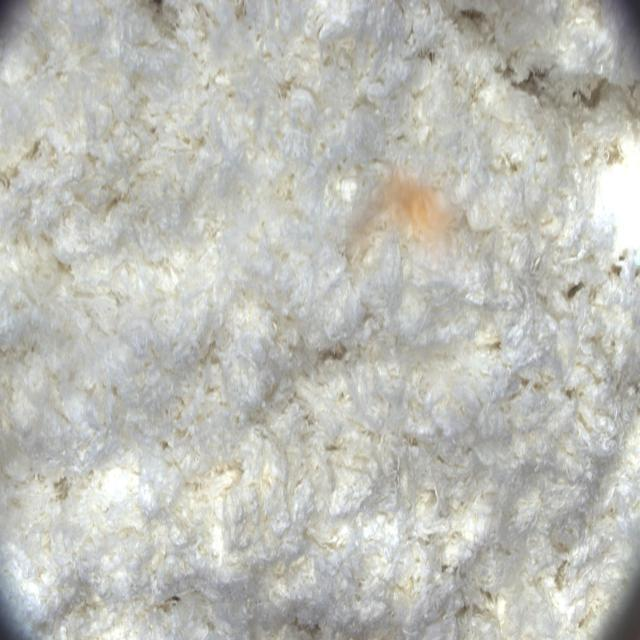dust: (345, 159, 475, 281)
